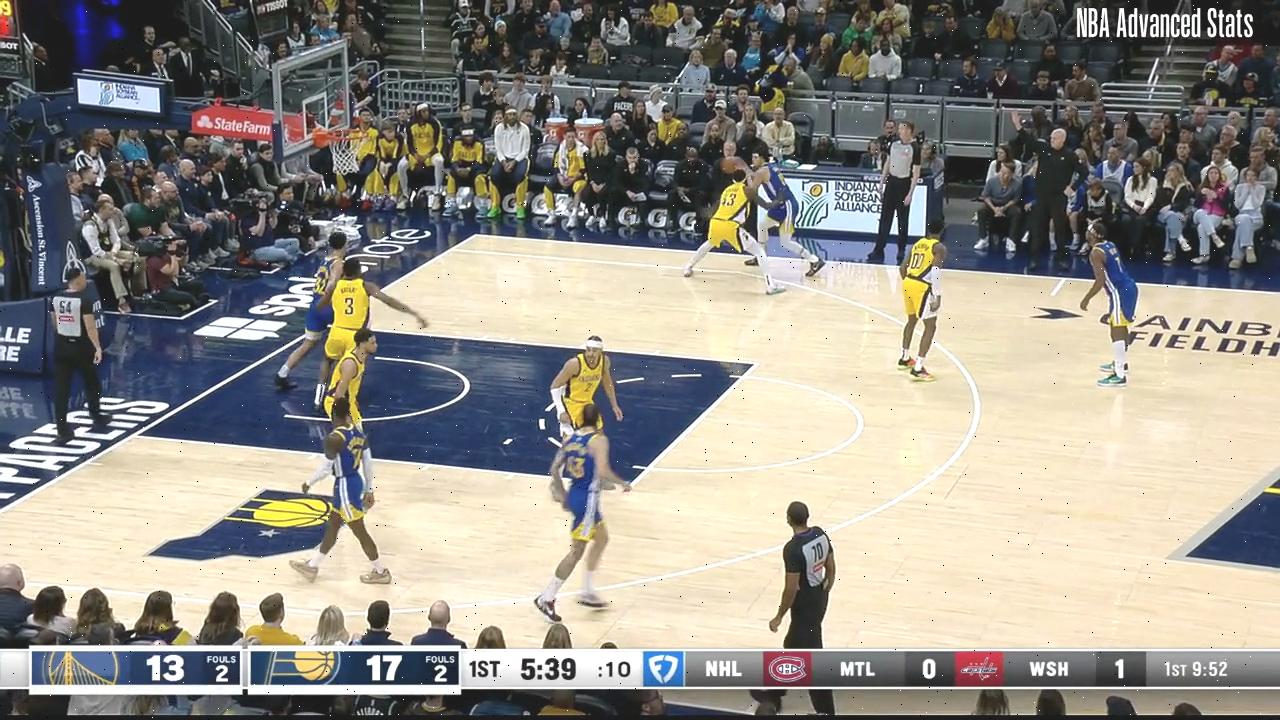basketball: (718, 155, 741, 173)
